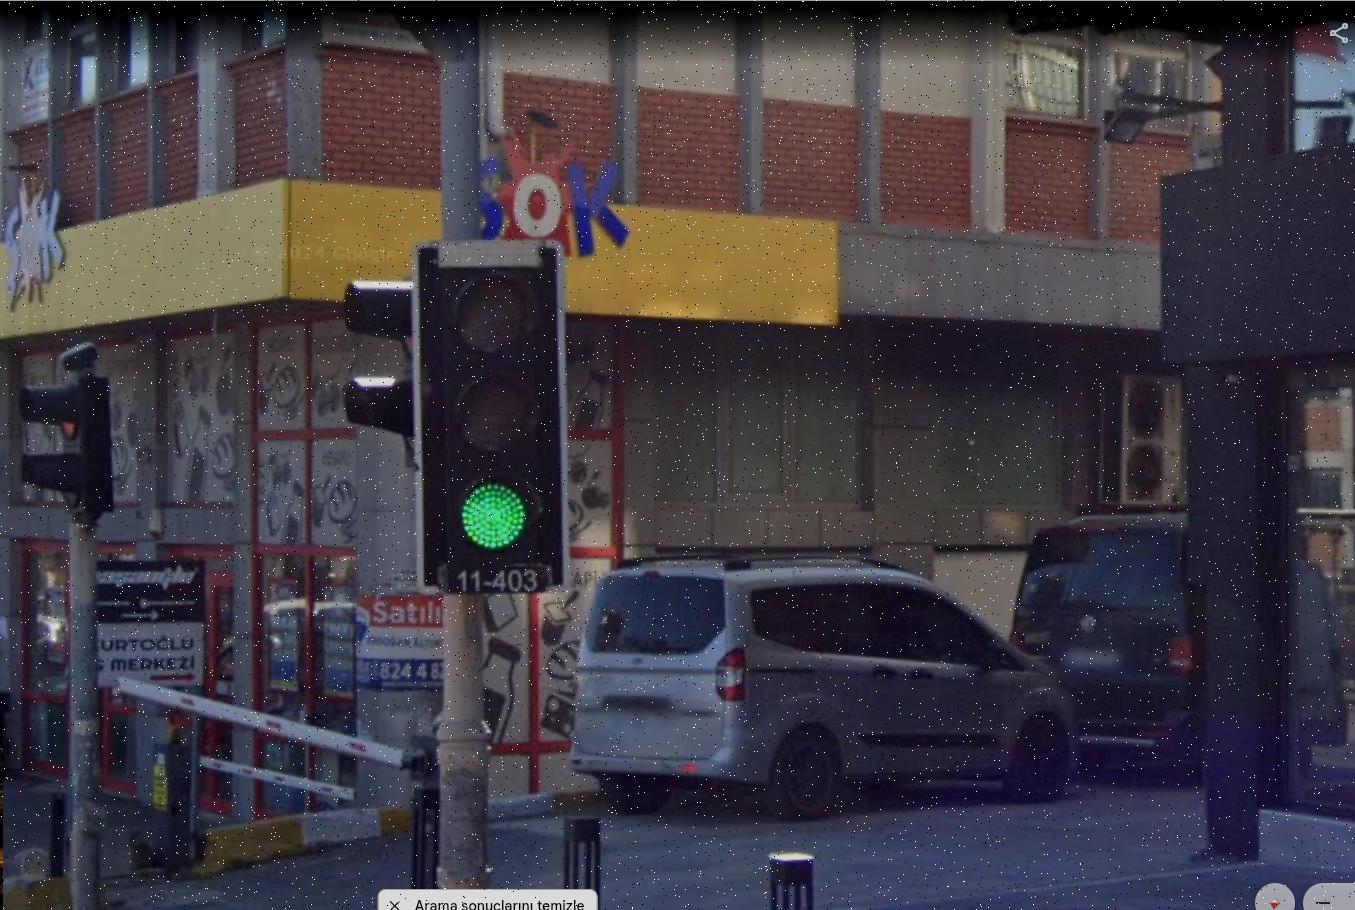greenlight: (426, 252, 561, 557)
